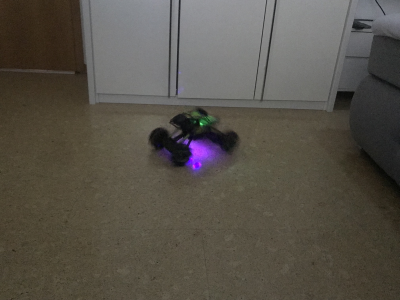remote control car: (146, 101, 240, 168)
